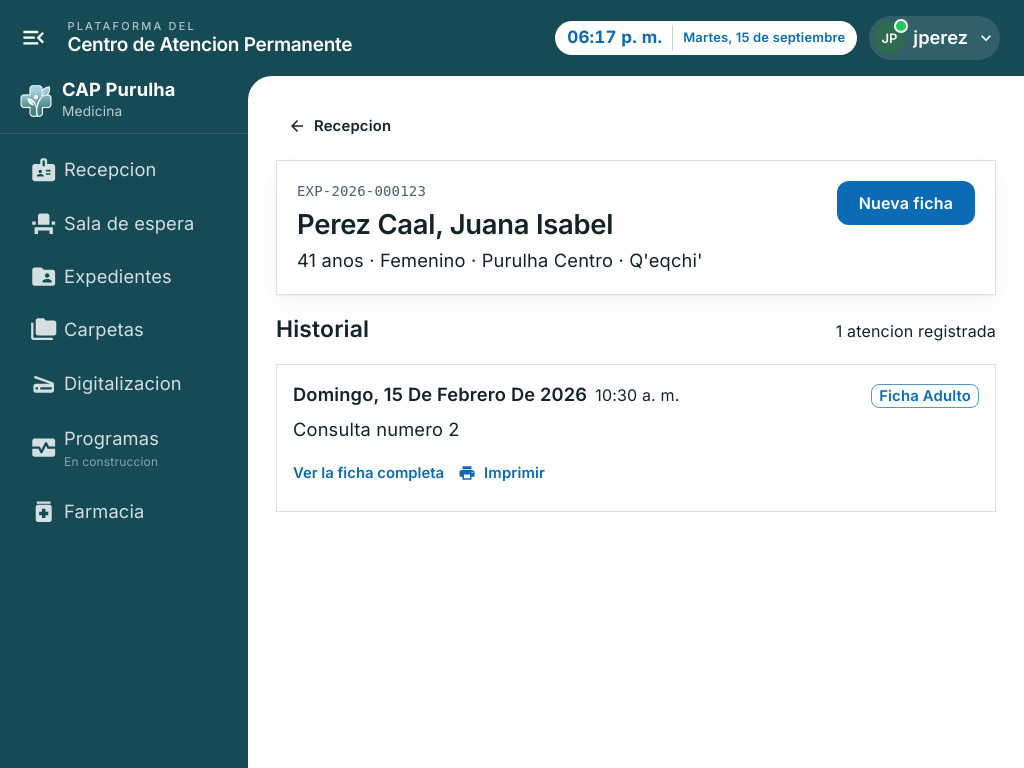
Test case: el expediente de un paciente › la ficha muestra solo lo que se marco, no el catalogo entero
Click the button "Ver la ficha completa": click(369, 473) [293, 451, 444, 495]
(page scrolled)
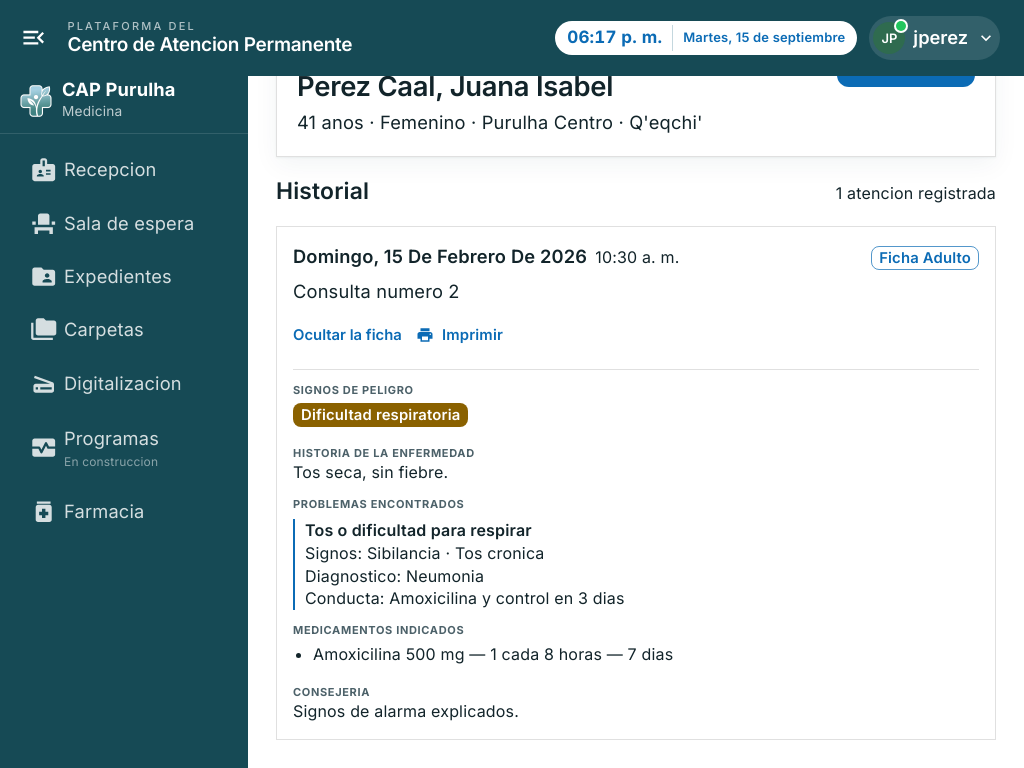
Expected: the text "Tos o dificultad para respirar" is shown, [305, 520, 532, 540]
Expected: the text "Dificultad respiratoria" is shown, [293, 404, 468, 426]
Expected: the text "Signos: Sibilancia · Tos cronica" is shown, [305, 543, 544, 563]
